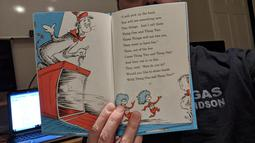text block: (118, 10, 179, 81)
